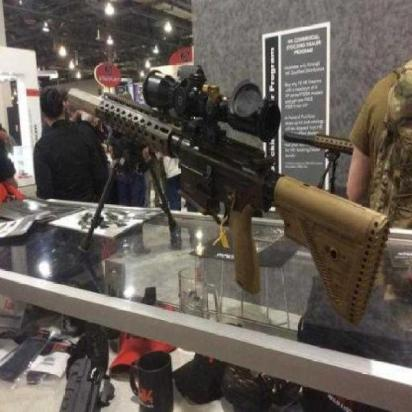Gun: (54, 52, 393, 337)
